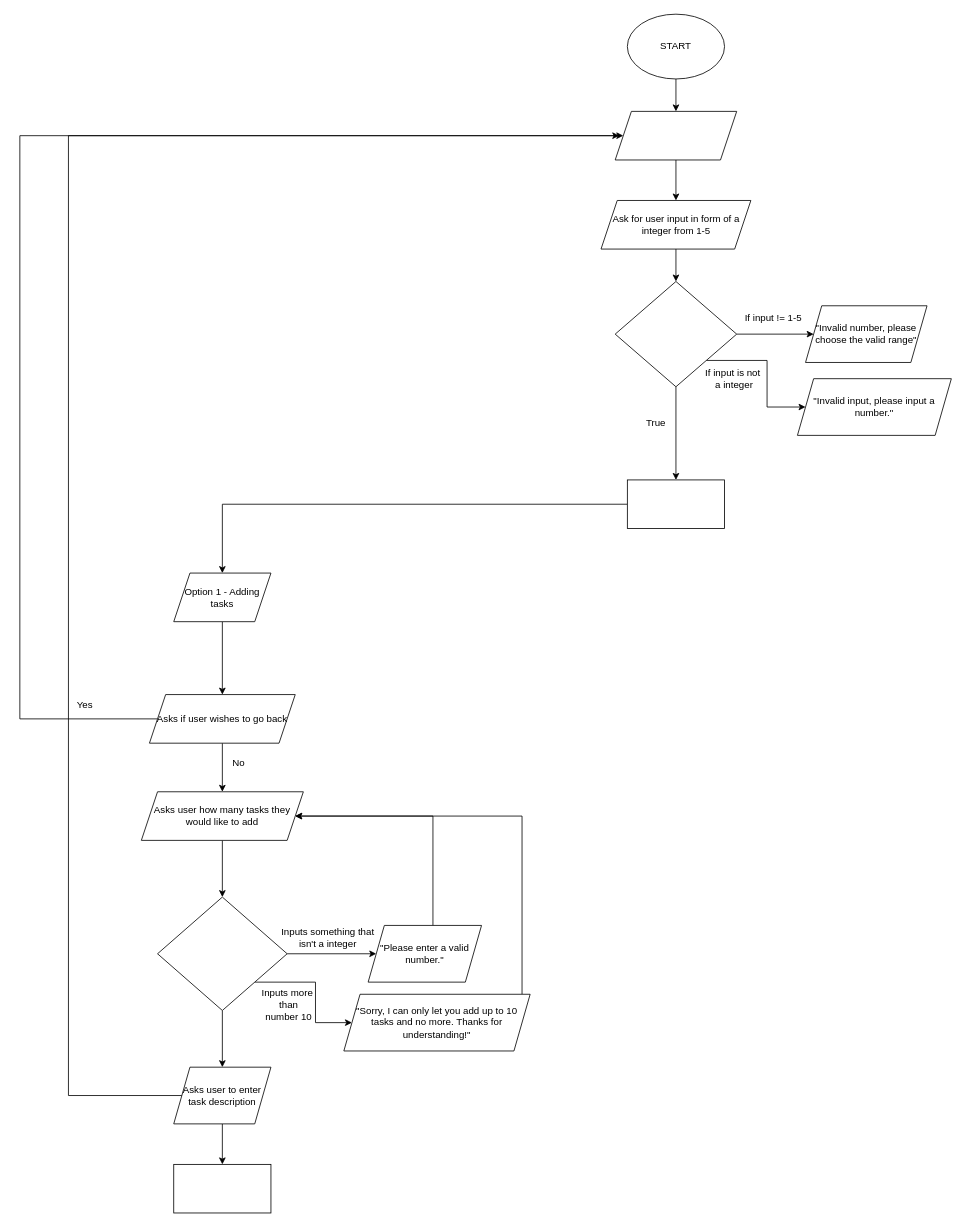
Image size: 966x1227. Some labels were removed from this diagram. Each missing label, with the box of its shape:
Check which option the user chooses: (614, 281, 737, 387)
Display menu: (614, 111, 737, 160)
Executes corresponding function based on user's choice: (627, 479, 725, 529)
Stored to json file holding already saved tasks: (173, 1164, 271, 1213)
User inputs a valid integer: (157, 896, 287, 1010)
